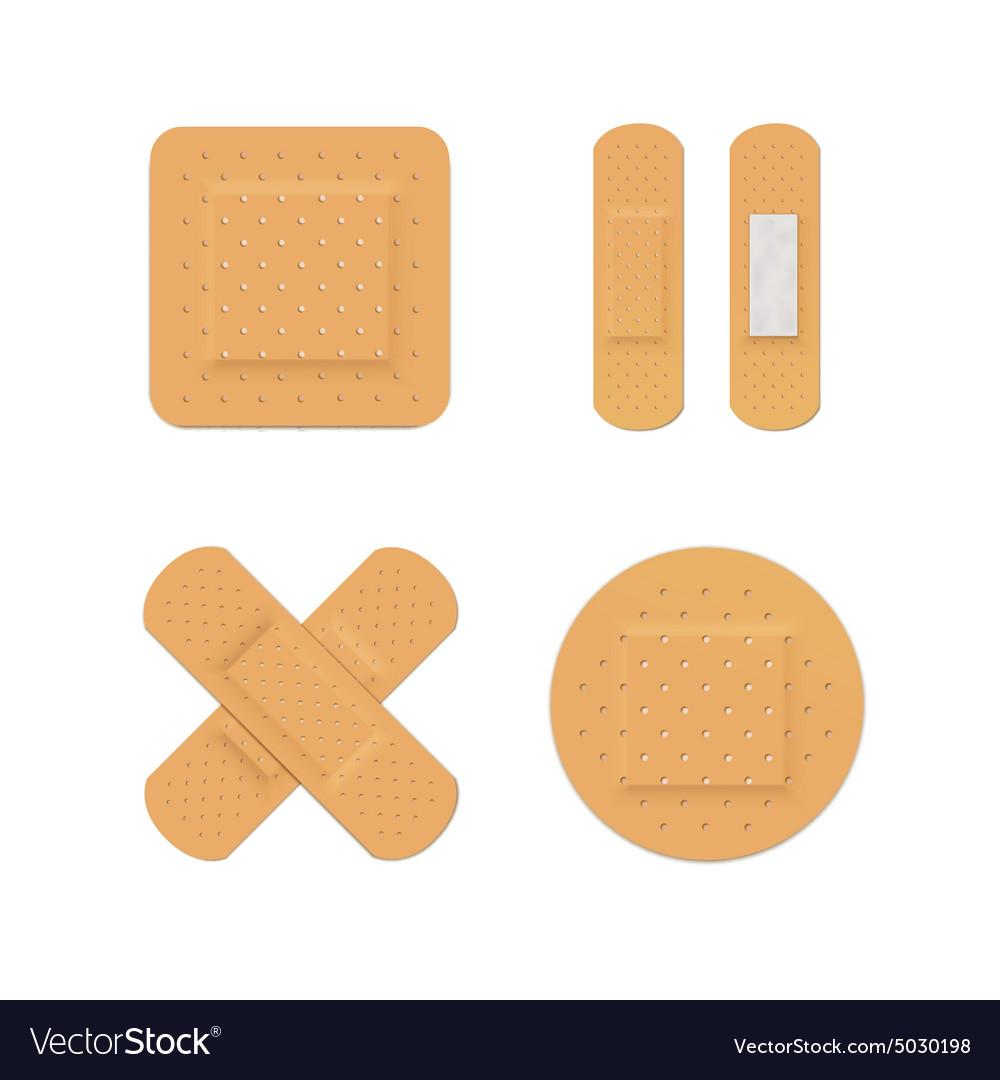bandage: (144, 546, 459, 865), (552, 546, 863, 857), (146, 122, 451, 431), (728, 120, 823, 430), (594, 122, 687, 431)
